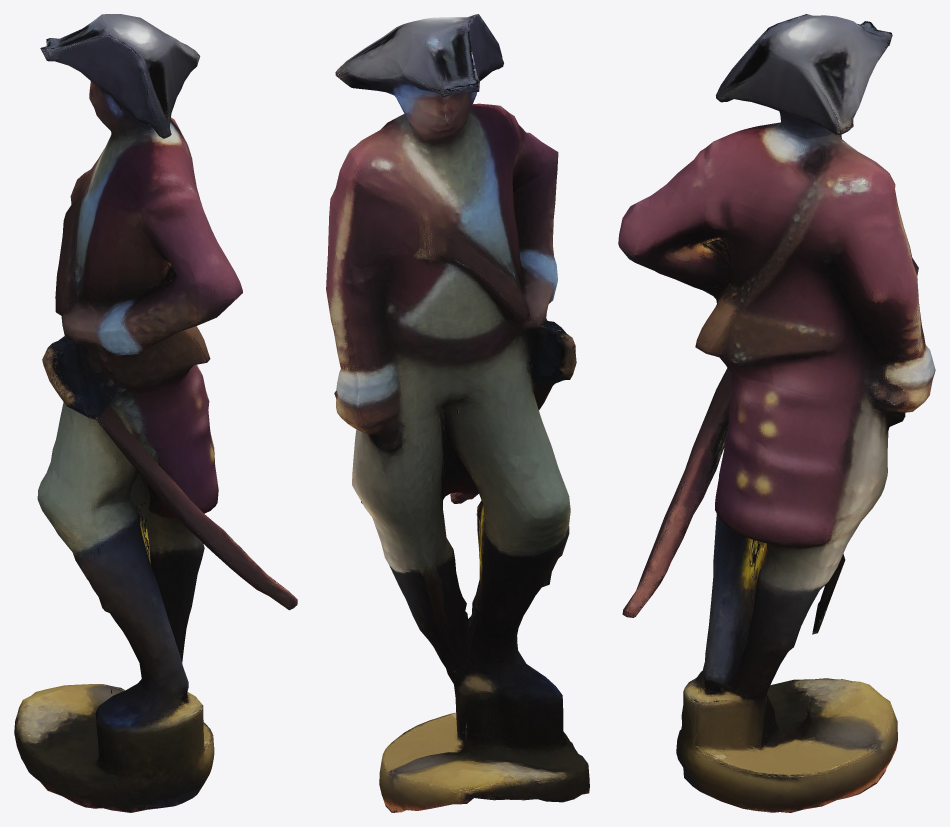
Rendered from obj04_baseline.glb.
The picture shows the model from 3 angles, left to right: view 1: azimuth 30°, elevation 25°; view 2: azimuth 150°, elevation 25°; view 3: azimuth 270°, elevation 25°; orthographic projection. The views are drawn at different scales.
Parts seen in each view (by area): view 1: n1; view 2: n1; view 3: n1.
Boxes of the visible parts, x1,y1,x2,y2 form: n1: (14,14,297,812); n1: (326,14,589,812); n1: (618,14,935,812).
Size of the model in its own units: 0.257 by 0.9129 by 0.3434.
Materials: 1 (1 with a texture image).
